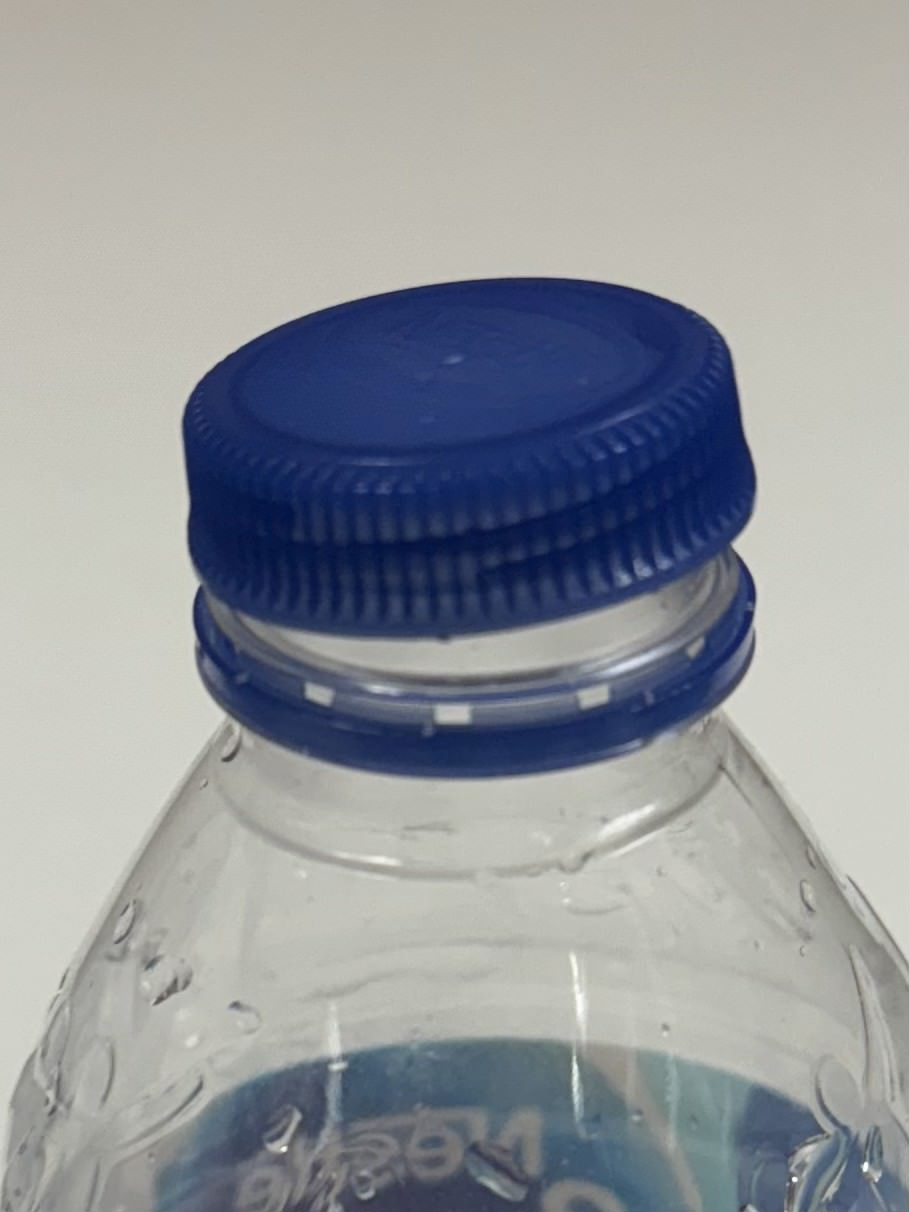half_cap: (167, 263, 774, 772)
